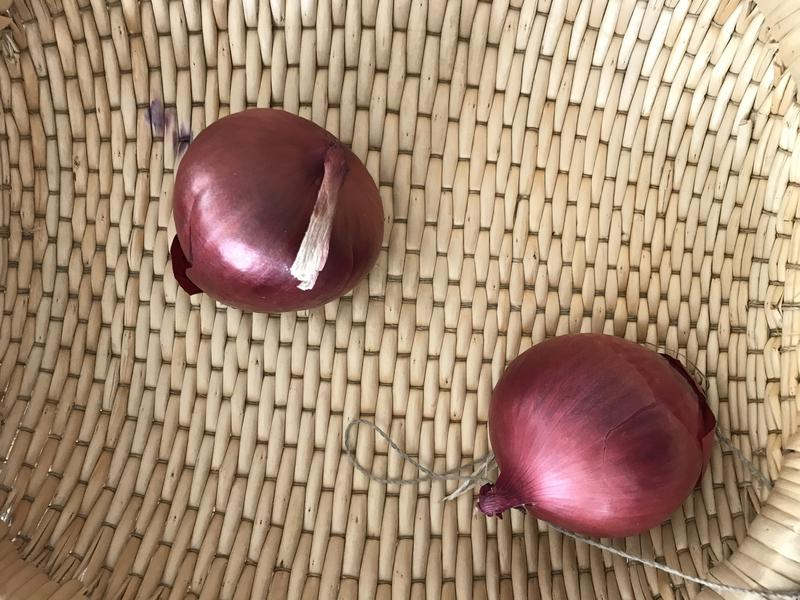purple_onion: (464, 321, 725, 550), (157, 95, 396, 334)
